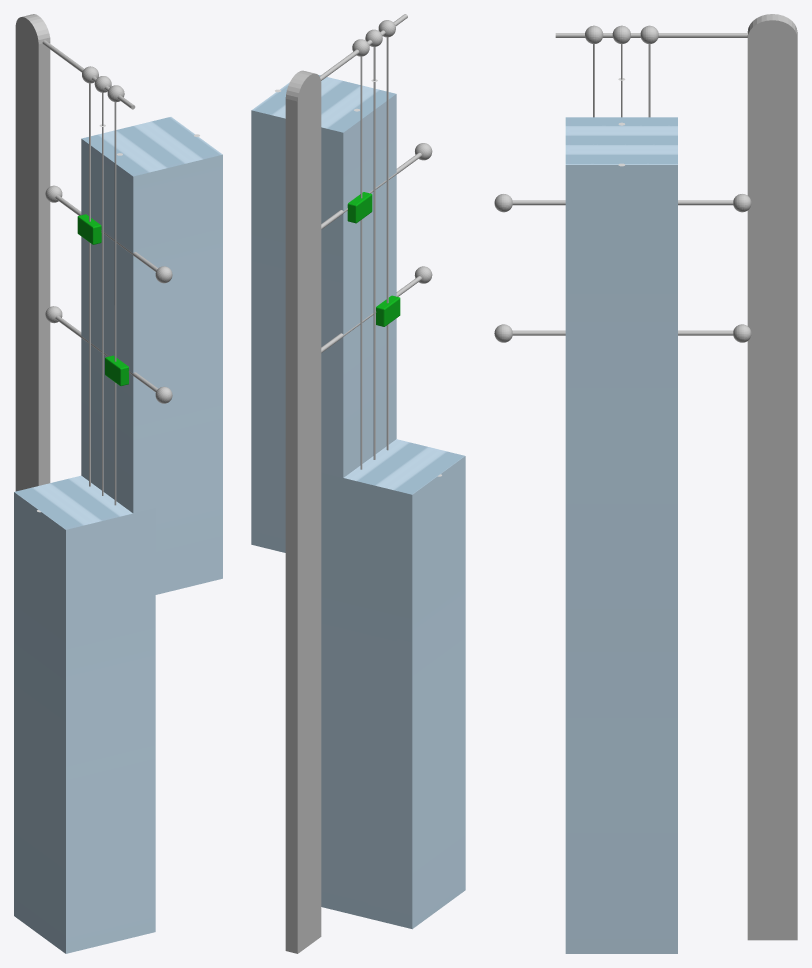
The model's file is 1_hit_vert_ropes.fbx.
3 views of the same model, side by side, from view 1: azimuth 30°, elevation 25°; view 2: azimuth 150°, elevation 25°; view 3: azimuth 270°, elevation 25° (orthographic). The views are drawn at different scales.
Parts seen in each view (by area): view 1: road.010, hit_vert_ropes, hit1_2, hit1_2.001; view 2: road.010, hit_vert_ropes, hit1_2, hit1_2.001; view 3: road.010, hit_vert_ropes.
Boxes of the visible parts, bbox=[...] form: road.010: bbox=[14, 117, 222, 953]; hit_vert_ropes: bbox=[15, 14, 172, 505]; hit1_2: bbox=[77, 214, 101, 244]; hit1_2.001: bbox=[105, 355, 128, 385]; road.010: bbox=[251, 75, 465, 929]; hit_vert_ropes: bbox=[285, 14, 432, 953]; hit1_2: bbox=[347, 192, 372, 223]; hit1_2.001: bbox=[376, 295, 400, 326]; road.010: bbox=[565, 117, 677, 953]; hit_vert_ropes: bbox=[494, 14, 797, 940].
Bounding box in the file's own units: 2198 × 11000 × 3275.
